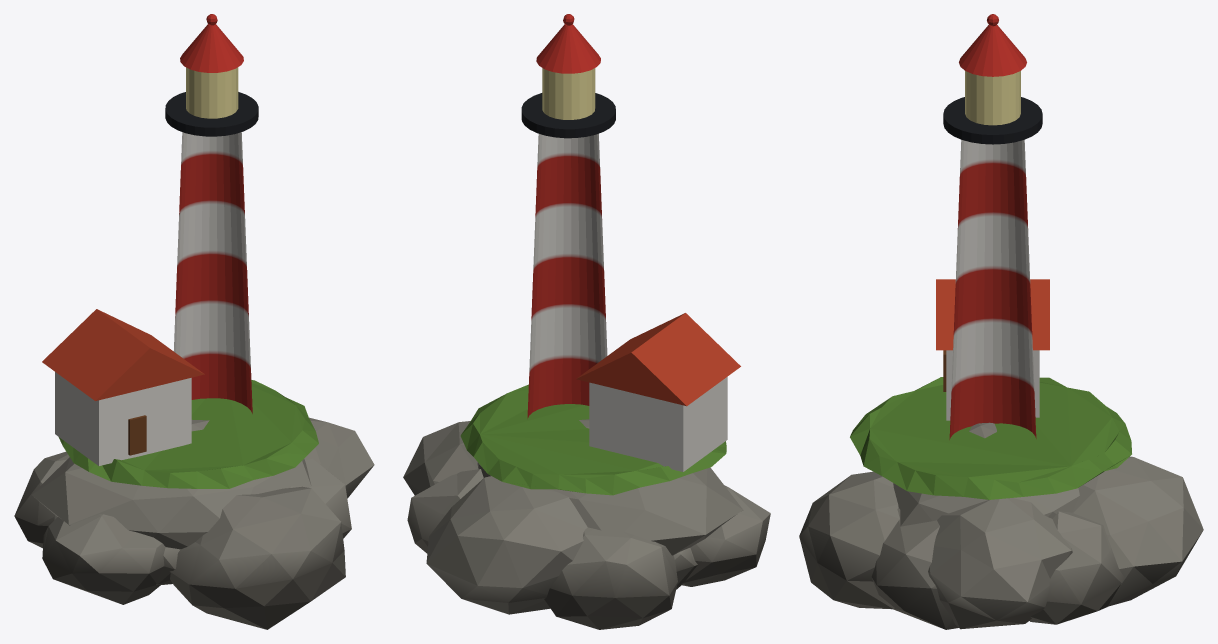
File: lighthouse.glb
The picture shows the model from 3 angles, left to right: view 1: azimuth 30°, elevation 25°; view 2: azimuth 150°, elevation 25°; view 3: azimuth 270°, elevation 25°; orthographic projection. The views are drawn at different scales.
Parts seen in each view (by area): view 1: Lighthouse; view 2: Lighthouse; view 3: Lighthouse.
Part boxes in pixels (box(x1,y1,x2,y2)): Lighthouse: box(14, 14, 374, 629); Lighthouse: box(403, 14, 770, 629); Lighthouse: box(799, 14, 1203, 629).
Size of the model in its own units: 3.85 by 6.37 by 3.91.
